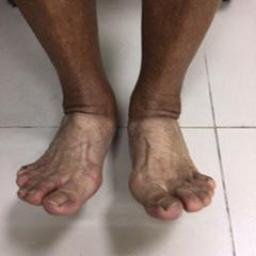Front View -Both Feet-: (6, 49, 221, 237)
